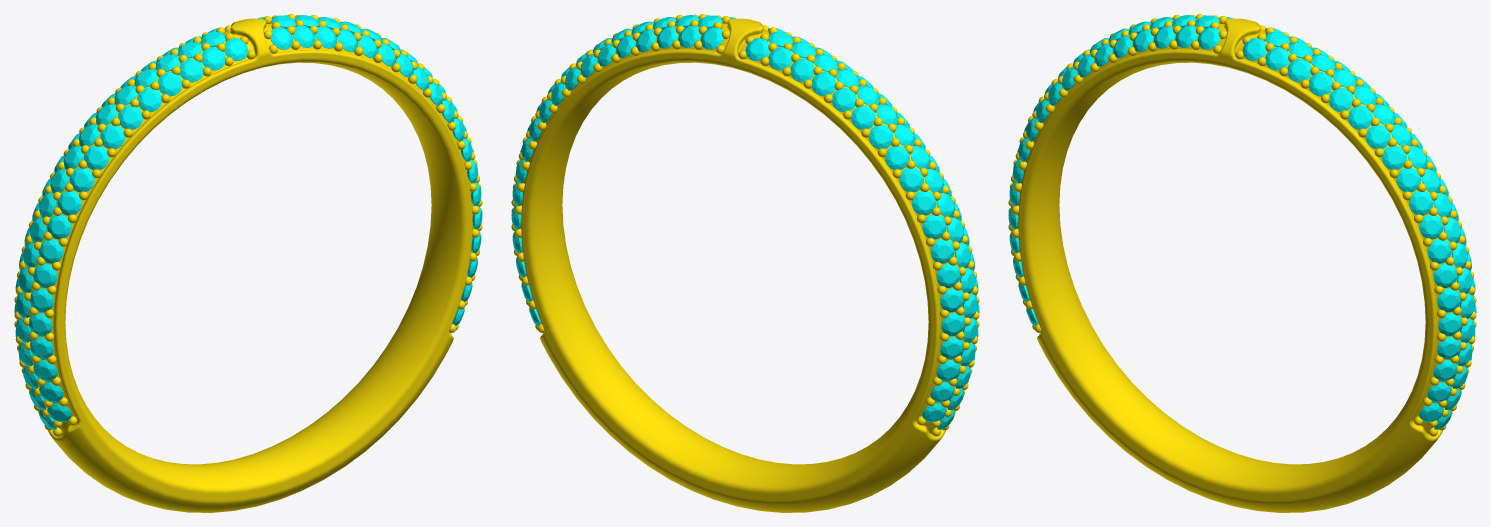
The model's file is MULTI-ROW.glb.
3 views of the same model, side by side, from view 1: azimuth 30°, elevation 25°; view 2: azimuth 150°, elevation 25°; view 3: azimuth 330°, elevation 25° (orthographic).
Parts seen in each view (by area): view 1: metal_merged, SH-3Pave3dm; view 2: metal_merged, SH-3Pave3dm; view 3: metal_merged, SH-3Pave3dm.
Part boxes in pixels (bbox=[...]): metal_merged: bbox=[14, 14, 482, 512]; SH-3Pave3dm: bbox=[14, 15, 482, 429]; metal_merged: bbox=[511, 14, 979, 512]; SH-3Pave3dm: bbox=[511, 15, 979, 429]; metal_merged: bbox=[1008, 14, 1476, 512]; SH-3Pave3dm: bbox=[1008, 15, 1476, 429].
Bounding box in the file's own units: 16.01 × 16.06 × 1.99.
